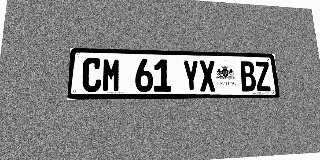1: (153, 59, 171, 92)
6: (135, 59, 153, 92)
B: (239, 61, 257, 91)
C: (81, 58, 102, 92)
M: (102, 58, 121, 92)
X: (199, 60, 216, 91)
Y: (182, 60, 200, 92)
Z: (254, 61, 272, 91)
